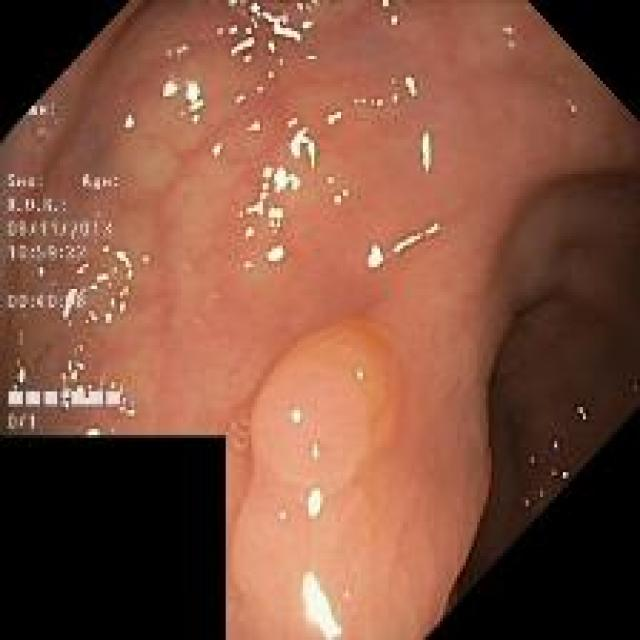Polyps: (250, 321, 399, 497)
